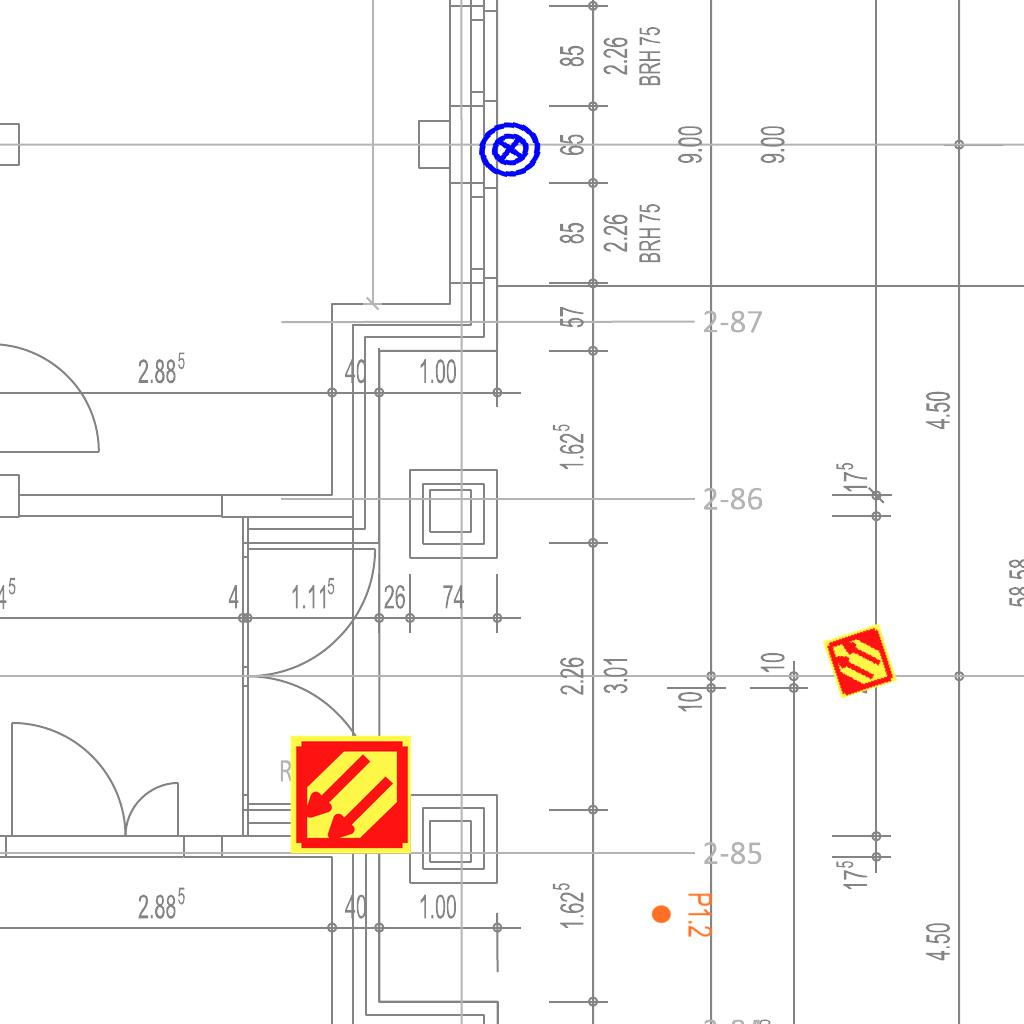ASR_Ansaugrauchmelder: (288, 732, 413, 857), (820, 621, 900, 701)
Downlight_LED_Einbauleuchten_Flur: (650, 892, 714, 938)
Taster_beleuchtet: (473, 112, 547, 186)
